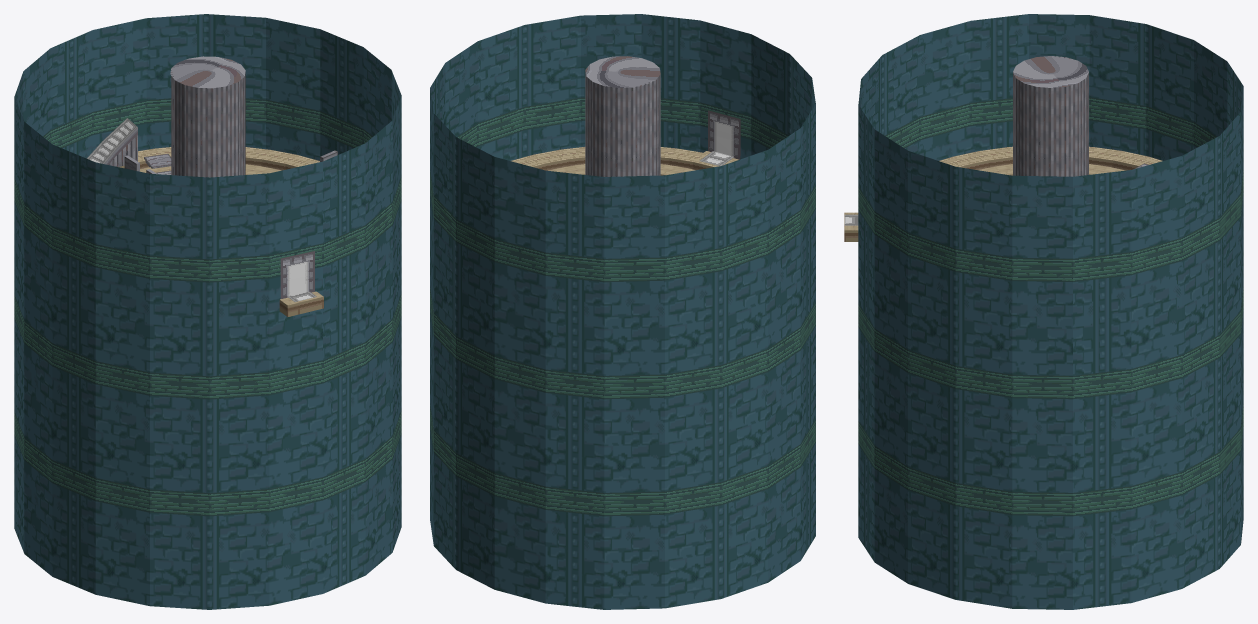
3 renders of one model, left to right at view 1: azimuth 30°, elevation 25°; view 2: azimuth 150°, elevation 25°; view 3: azimuth 270°, elevation 25°, orthographic.
Visible parts, largest first — view 1: polygon6, polygon7, polygon5, polygon3, polygon8, polygon9, polygon4, polygon0; view 2: polygon6, polygon7, polygon5, polygon3, polygon8, polygon9; view 3: polygon6, polygon7, polygon5, polygon3, polygon9.
Part boxes in pixels (x1,y1,x2,y2): polygon6: [14, 14, 401, 609]; polygon7: [14, 98, 401, 516]; polygon5: [109, 56, 245, 177]; polygon3: [138, 147, 323, 305]; polygon8: [280, 251, 314, 298]; polygon9: [118, 157, 323, 316]; polygon4: [87, 118, 137, 163]; polygon0: [124, 150, 337, 174]; polygon6: [430, 14, 815, 609]; polygon7: [430, 97, 815, 516]; polygon5: [585, 56, 660, 176]; polygon3: [511, 147, 738, 175]; polygon8: [708, 110, 740, 159]; polygon9: [533, 157, 713, 175]; polygon6: [858, 14, 1243, 609]; polygon7: [858, 97, 1243, 516]; polygon5: [1013, 56, 1088, 176]; polygon3: [844, 146, 1162, 230]; polygon9: [844, 157, 1138, 241].
Size of the model in its own units: 7.45 by 9.75 by 7.73.
Materials: 12 (12 with a texture image).
